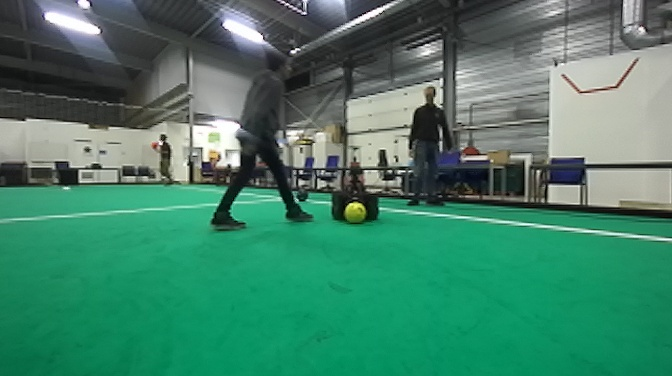ball: (344, 199, 368, 225), (295, 188, 311, 203)
human: (207, 50, 306, 235), (402, 85, 452, 210)
